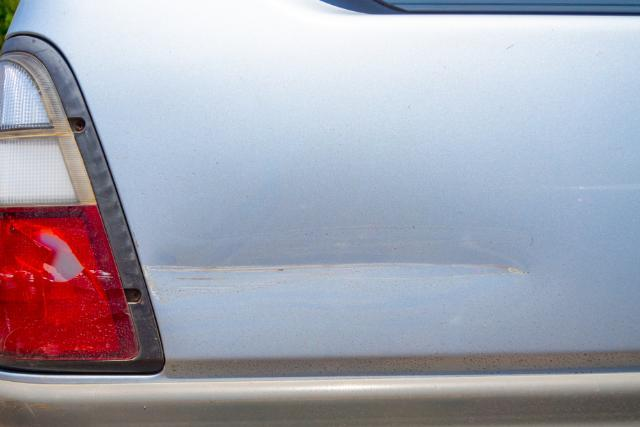Dickey: (129, 225, 561, 309)
Light: (0, 209, 121, 330)
